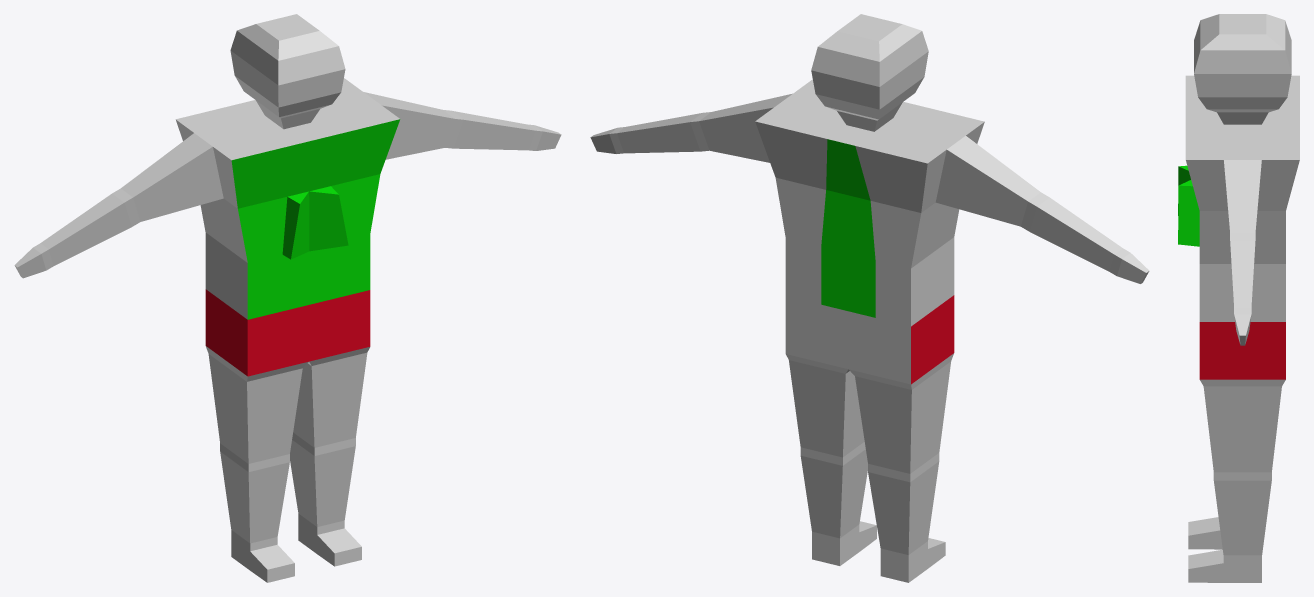
3 views of the same model, side by side, from view 1: azimuth 30°, elevation 25°; view 2: azimuth 150°, elevation 25°; view 3: azimuth 270°, elevation 25° (orthographic). The views are drawn at different scales.
Visible parts, largest first — view 1: Cube; view 2: Cube; view 3: Cube.
Part boxes in pixels (left/top/right/bottom): Cube: left=14, top=14, right=561, bottom=582; Cube: left=590, top=14, right=1149, bottom=582; Cube: left=1178, top=14, right=1299, bottom=582.
Size of the model in its own units: 502 by 463 by 95.44.
